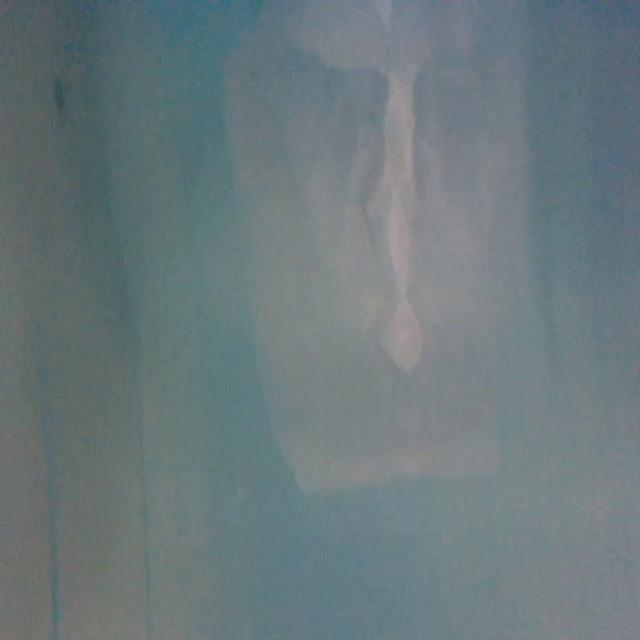plastic bags: (242, 0, 456, 512)
